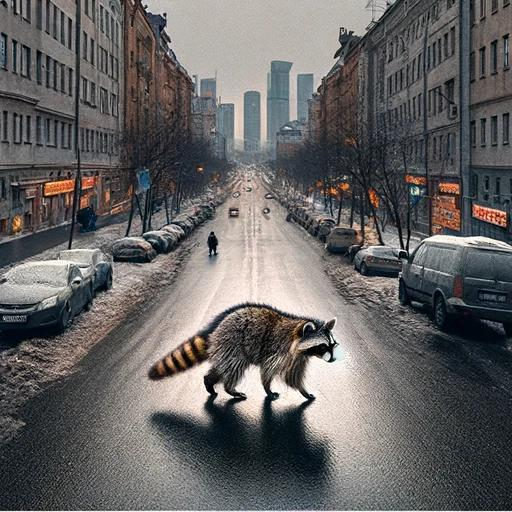raccoon: (142, 294, 345, 414)
